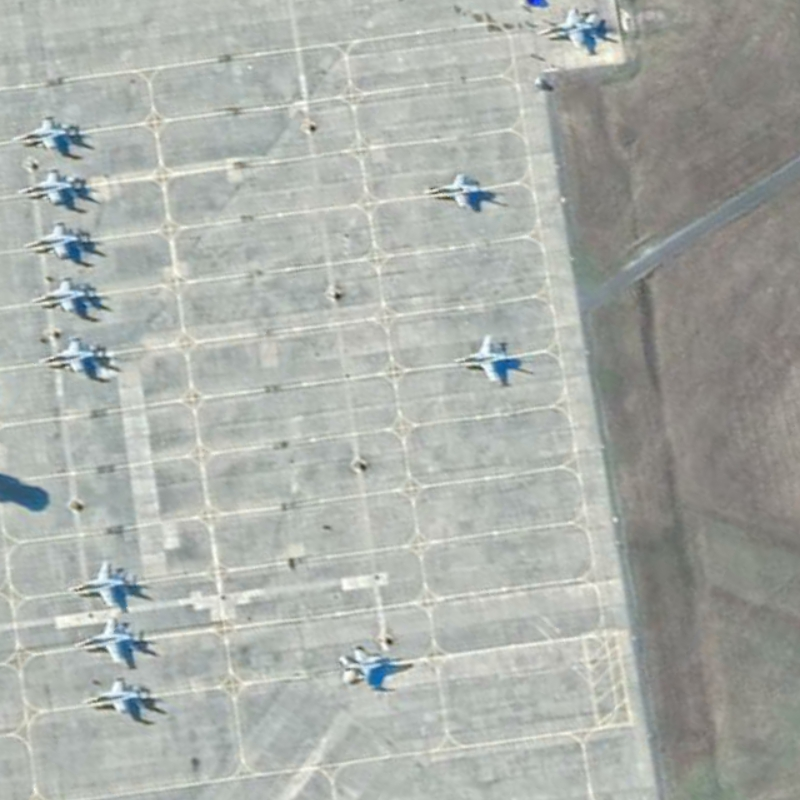A16: (56, 550, 145, 616), (329, 635, 418, 695), (68, 612, 157, 670), (528, 1, 615, 59), (76, 671, 160, 728), (443, 329, 522, 389), (10, 161, 97, 214), (30, 332, 115, 384), (21, 272, 106, 323), (3, 105, 87, 155), (14, 216, 97, 266), (414, 166, 493, 217)
